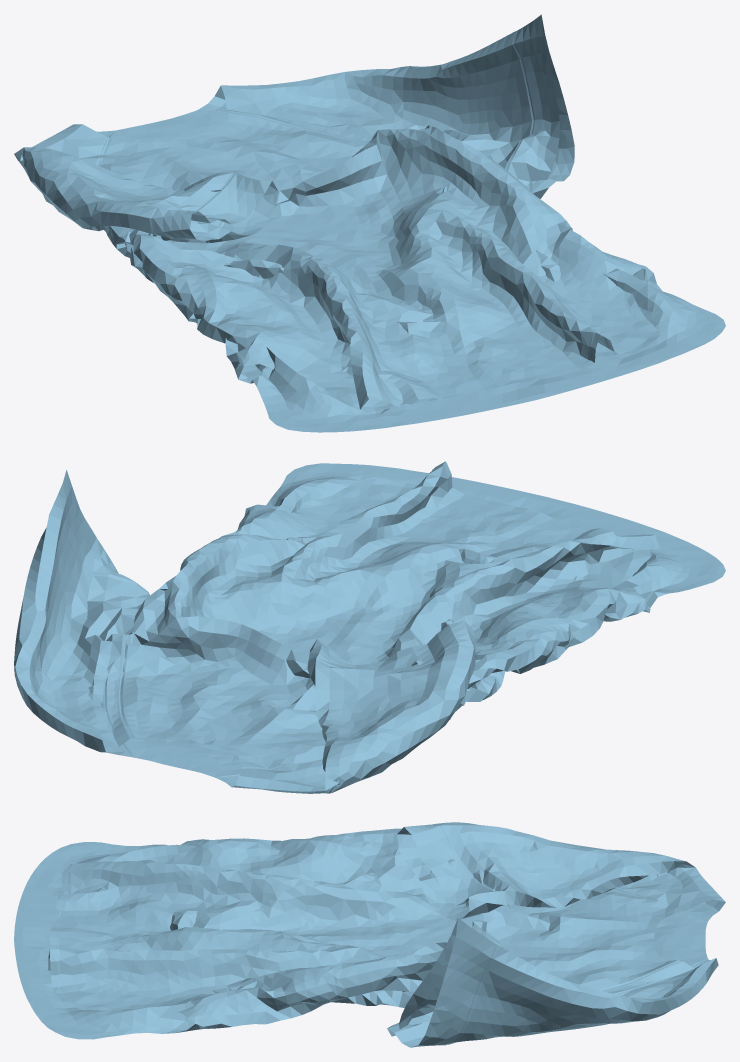
The model's file is frame_06.glb.
3 renders of one model, top to bottom at view 1: azimuth 30°, elevation 25°; view 2: azimuth 150°, elevation 25°; view 3: azimuth 270°, elevation 25°, orthographic. The views are drawn at different scales.
Parts seen in each view (by area): view 1: frame_06.obj; view 2: frame_06.obj; view 3: frame_06.obj.
Boxes of the visible parts, bbox=[...] form: frame_06.obj: bbox=[14, 14, 725, 432]; frame_06.obj: bbox=[14, 461, 725, 793]; frame_06.obj: bbox=[14, 822, 725, 1047].
Size of the model in its own units: 1.3 by 0.3951 by 1.81.
